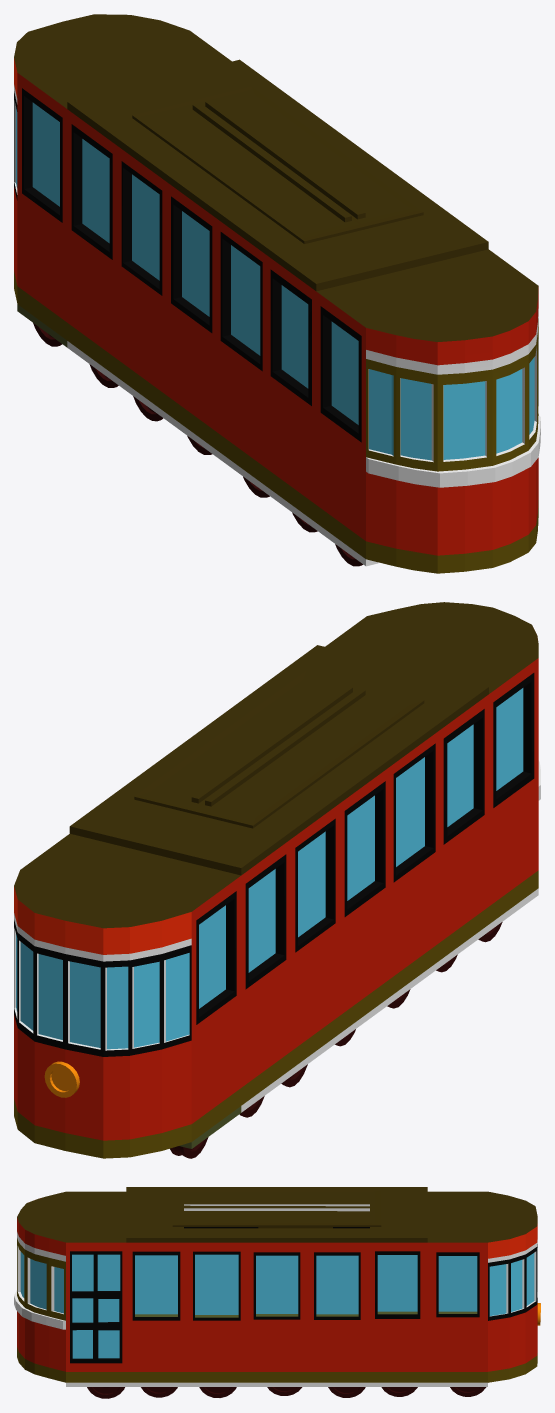
The model's file is Trampolin.glb.
The picture shows the model from 3 angles, top to bottom: view 1: azimuth 30°, elevation 25°; view 2: azimuth 150°, elevation 25°; view 3: azimuth 270°, elevation 25°; orthographic projection. The views are drawn at different scales.
Visible parts, largest first — view 1: pCylinder47; view 2: pCylinder47; view 3: pCylinder47.
Part boxes in pixels (x1=…): pCylinder47: x1=14, y1=14, x2=540, y2=573; pCylinder47: x1=14, y1=602, x2=540, y2=1158; pCylinder47: x1=14, y1=1187, x2=540, y2=1398.
Bounding box in the file's own units: 4.22 × 6.58 × 18.31.
